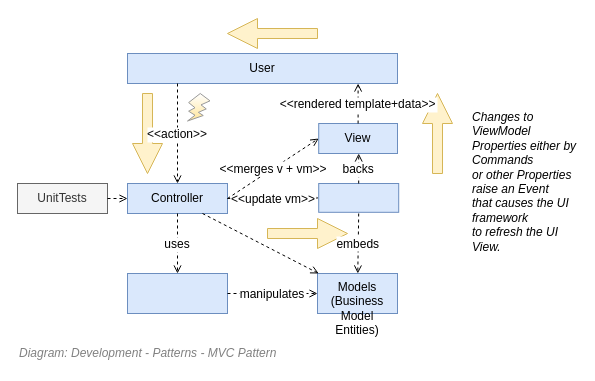
This 595x381 diagram has some shape labels left out. Here are the shapes that lost their labels. From the top down, the centre of each, then its label:
the point at 358,197: View Model
the point at 177,293: Services
